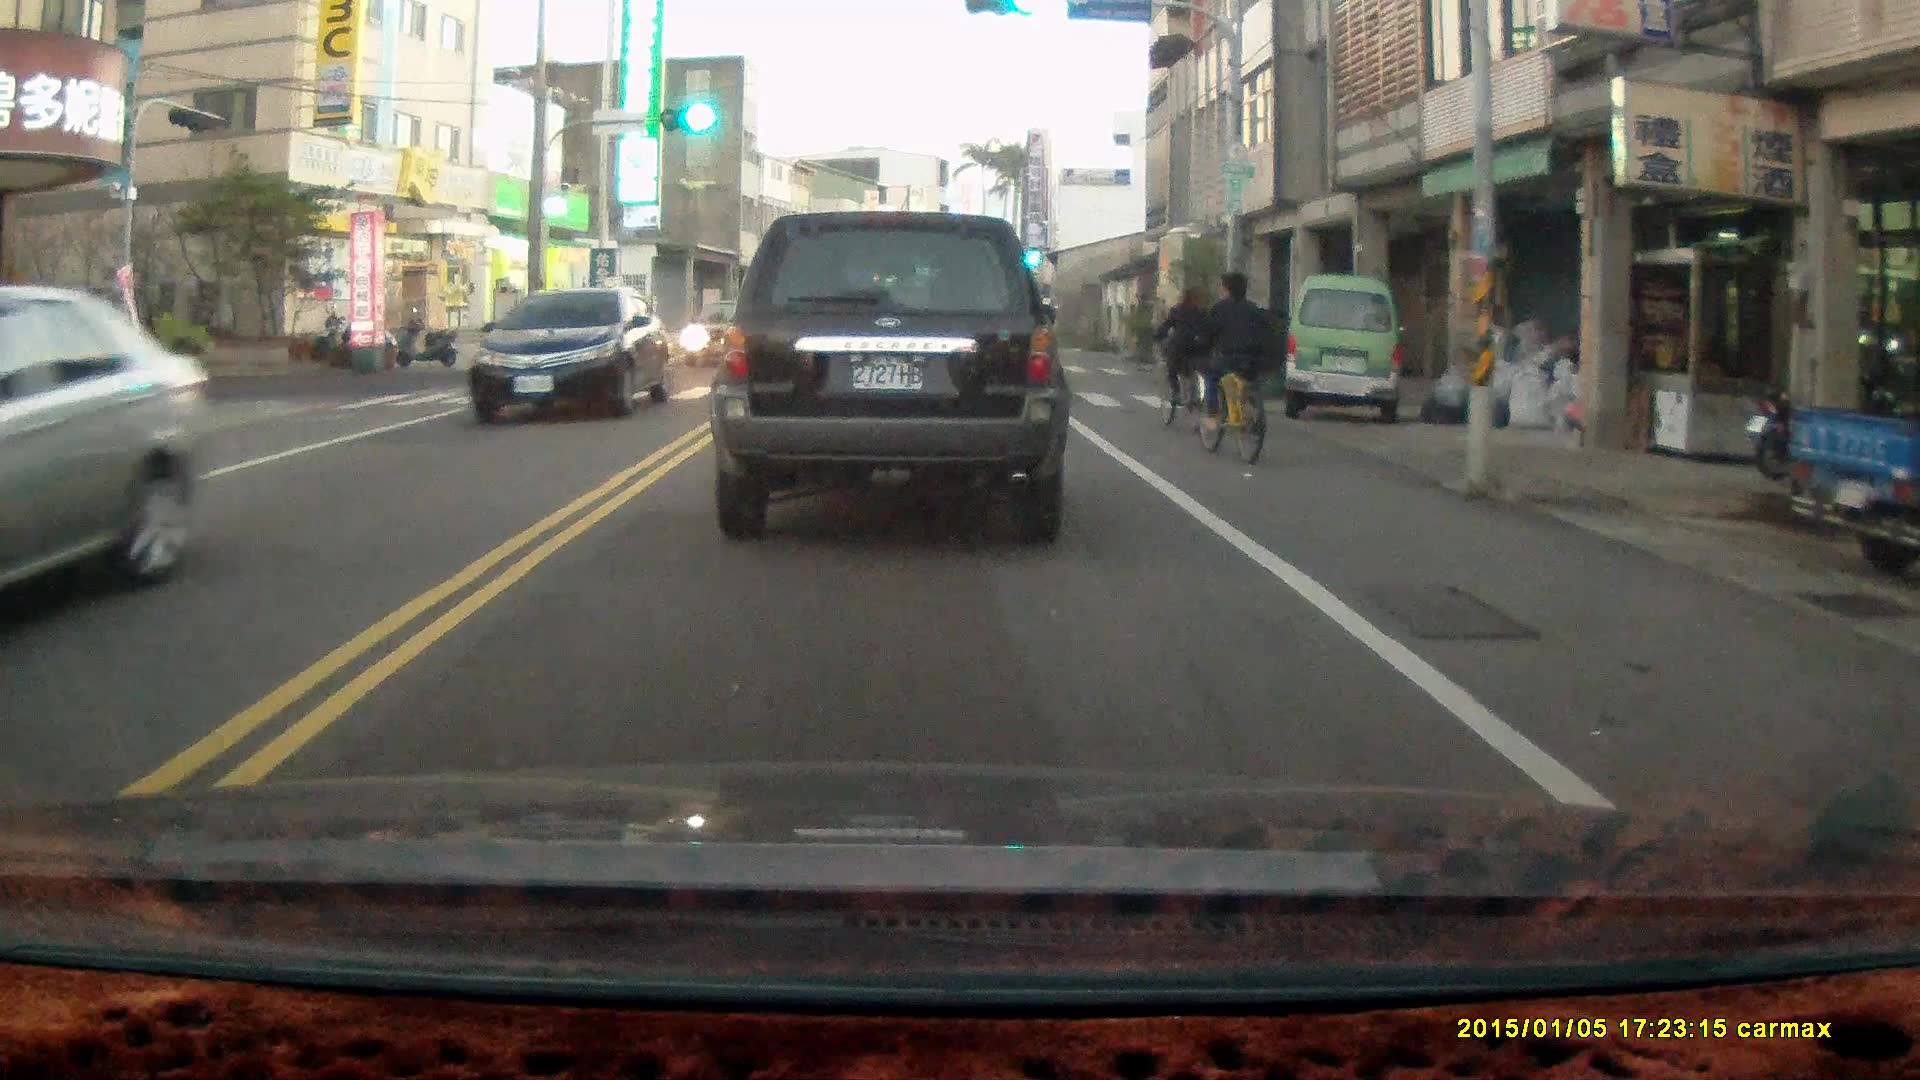rider: (1194, 268, 1269, 463), (1151, 278, 1218, 437)
vehicle: (715, 210, 1072, 541), (1, 282, 213, 644), (470, 282, 675, 426), (1283, 274, 1405, 428), (681, 299, 778, 371)
